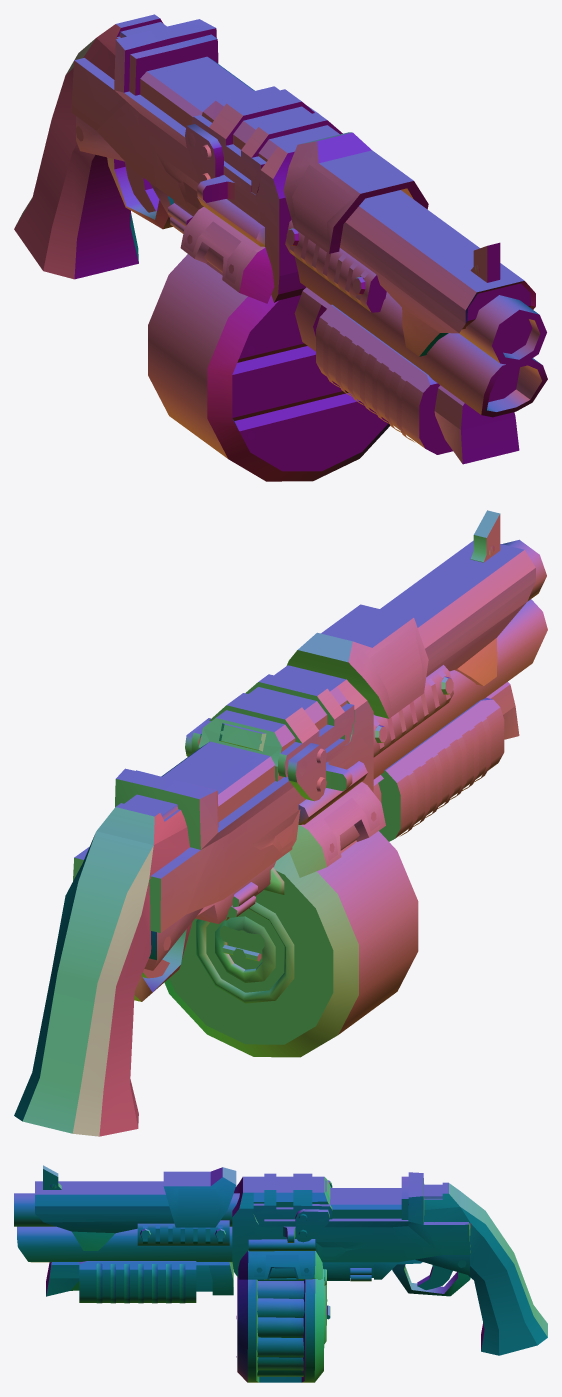
The picture shows the model from 3 angles, top to bottom: view 1: azimuth 30°, elevation 25°; view 2: azimuth 150°, elevation 25°; view 3: azimuth 270°, elevation 25°; orthographic projection. The views are drawn at different scales.
Parts seen in each view (by area): view 1: BearShotGun_TPS_Skin1_Weapon_01_TPS_bear_Skin_01_TPS_0_0; view 2: BearShotGun_TPS_Skin1_Weapon_01_TPS_bear_Skin_01_TPS_0_0; view 3: BearShotGun_TPS_Skin1_Weapon_01_TPS_bear_Skin_01_TPS_0_0.
Part boxes in pixels (bbox=[...]): BearShotGun_TPS_Skin1_Weapon_01_TPS_bear_Skin_01_TPS_0_0: bbox=[14, 14, 547, 481]; BearShotGun_TPS_Skin1_Weapon_01_TPS_bear_Skin_01_TPS_0_0: bbox=[14, 510, 547, 1136]; BearShotGun_TPS_Skin1_Weapon_01_TPS_bear_Skin_01_TPS_0_0: bbox=[14, 1165, 547, 1382].
Bounding box in the file's own units: 0.3235 × 0.5416 × 1.25.
